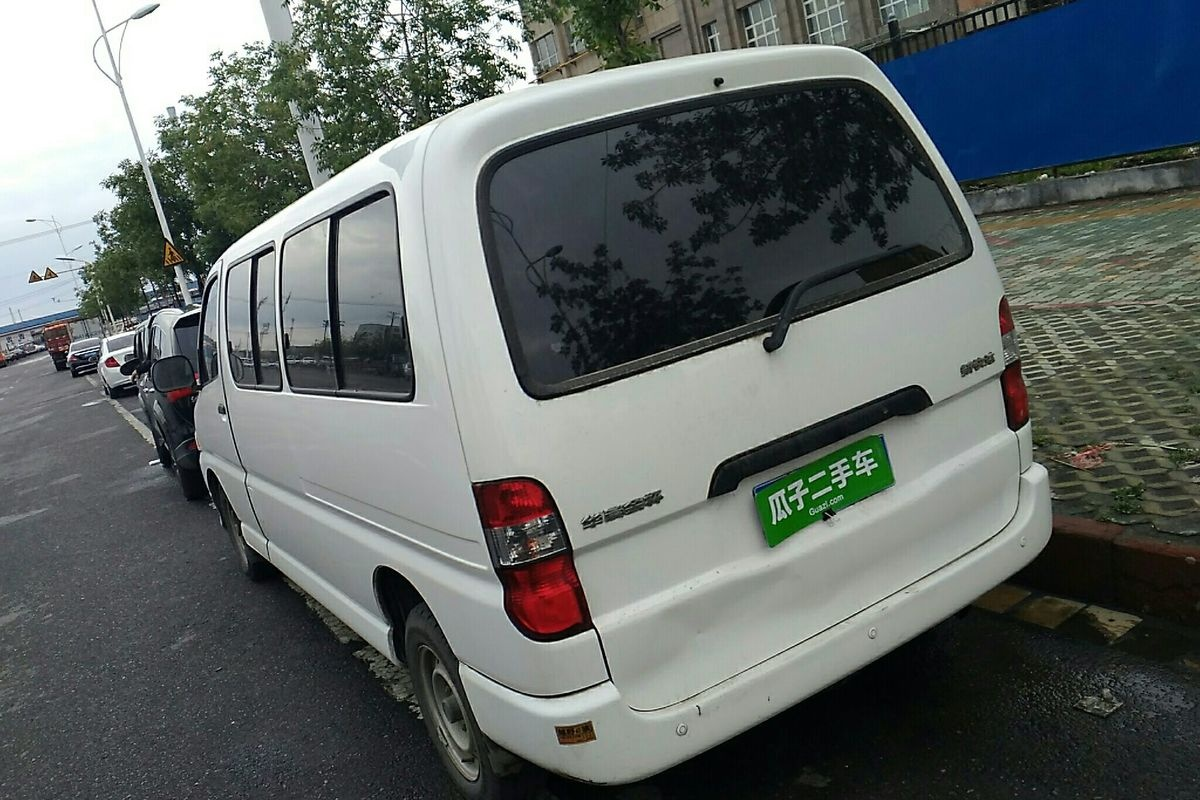minibus: (180, 76, 1077, 772)
